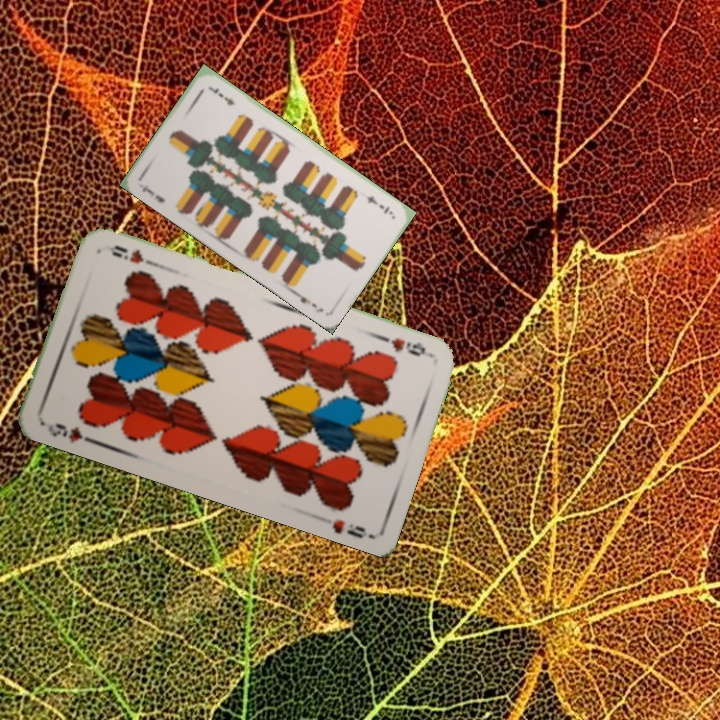E7: (362, 191, 395, 217), (138, 181, 167, 205)
H9: (43, 419, 98, 447), (387, 333, 433, 360)
